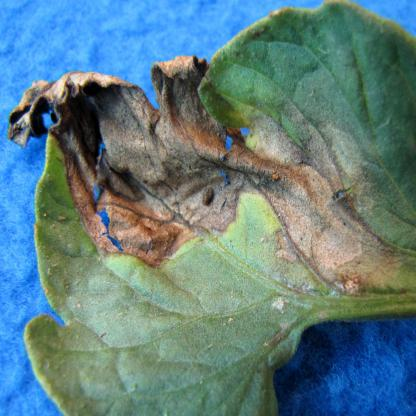Tomato leaf late blight: (5, 5, 411, 409)
